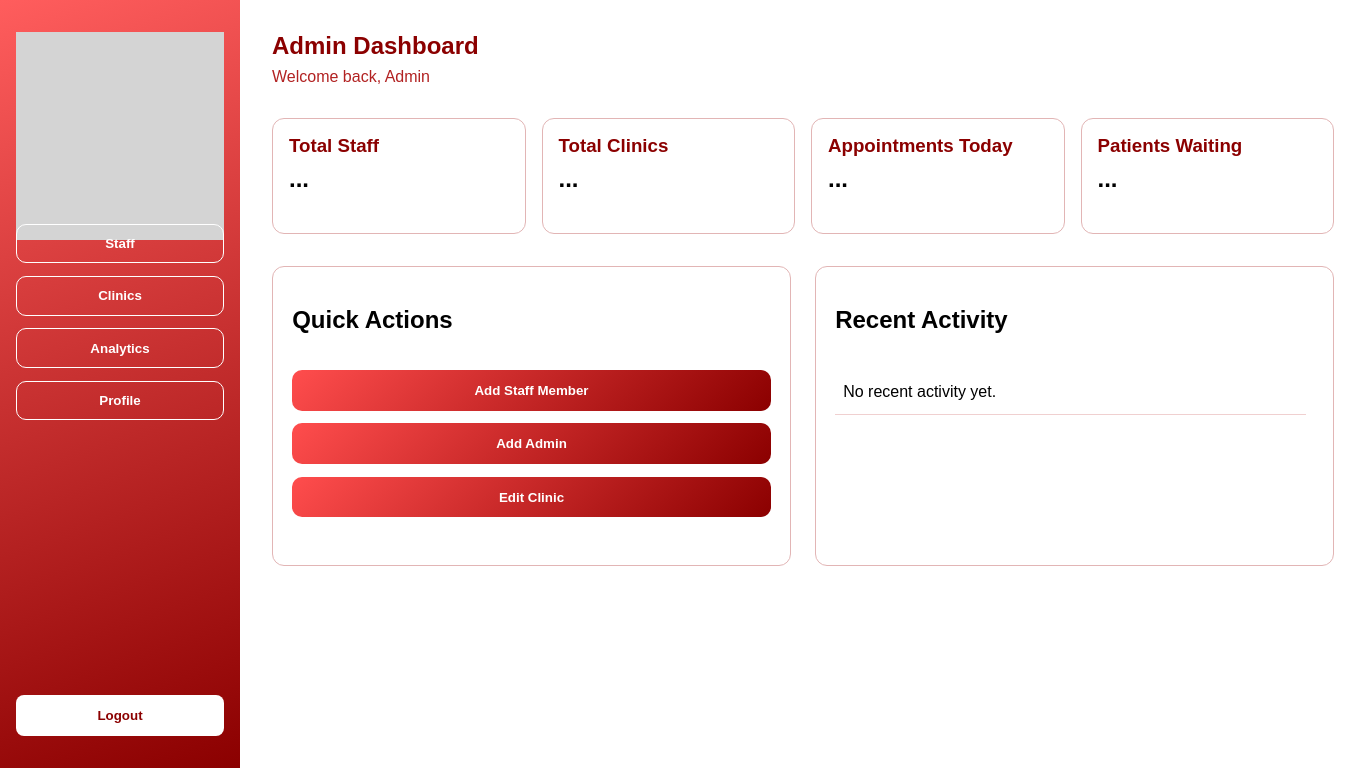
Test: AdminDashboard › shows validation when passwords do not match
Click the button "Profile" at [120, 400], box [16,380,224,420]
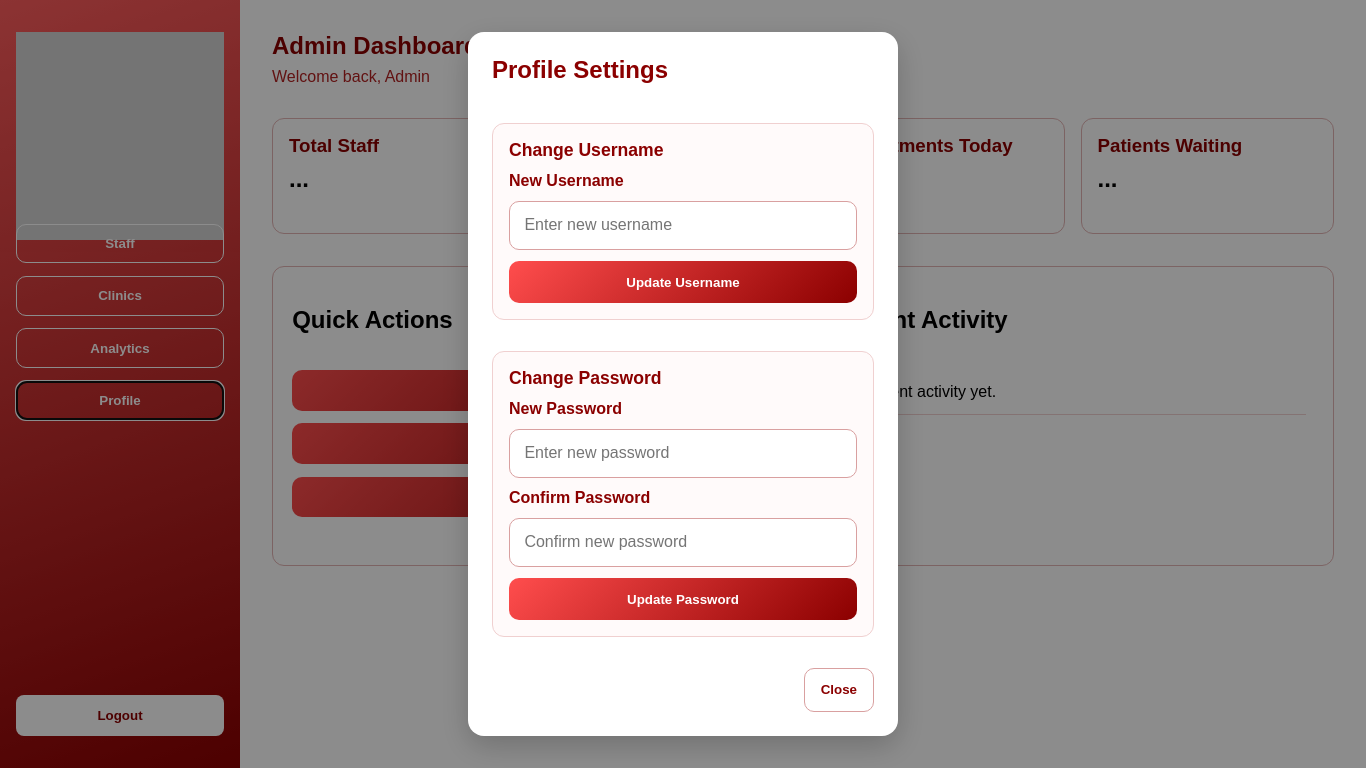
Type "password123" into the password field with placeholder "Enter new password" at [683, 453], box [509,429,857,478]
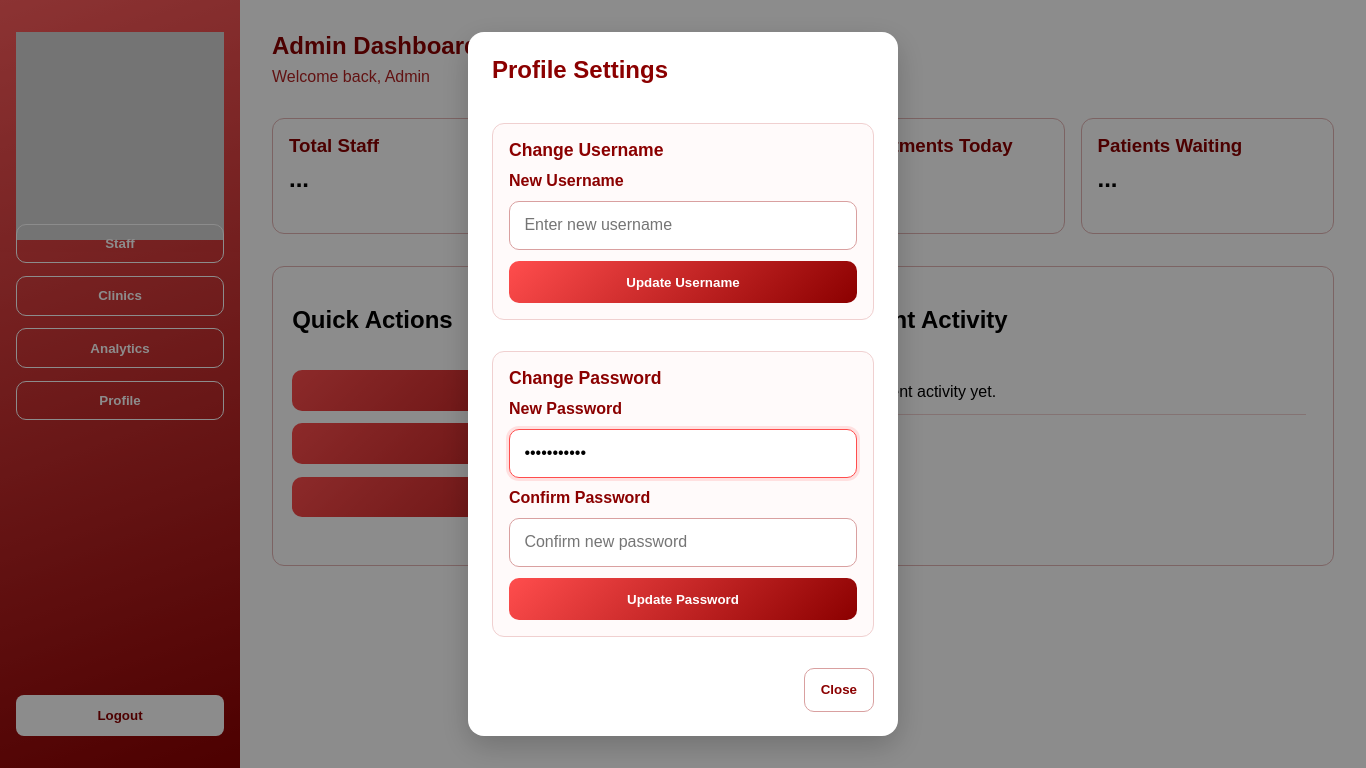
Type "wrongpassword" into the password field with placeholder "Confirm new password" at [683, 542], box [509,518,857,567]
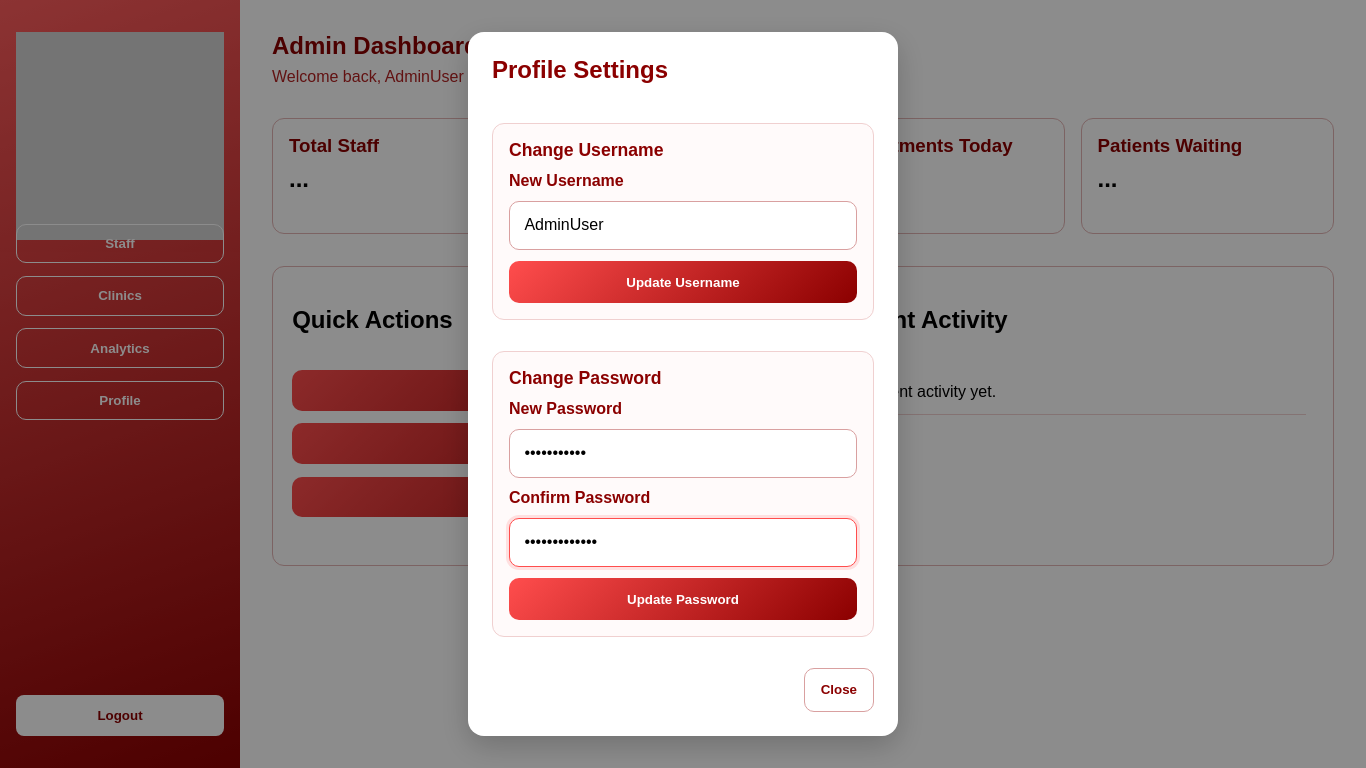
Click the button "Update Password" at [683, 599], box [509,578,857,620]
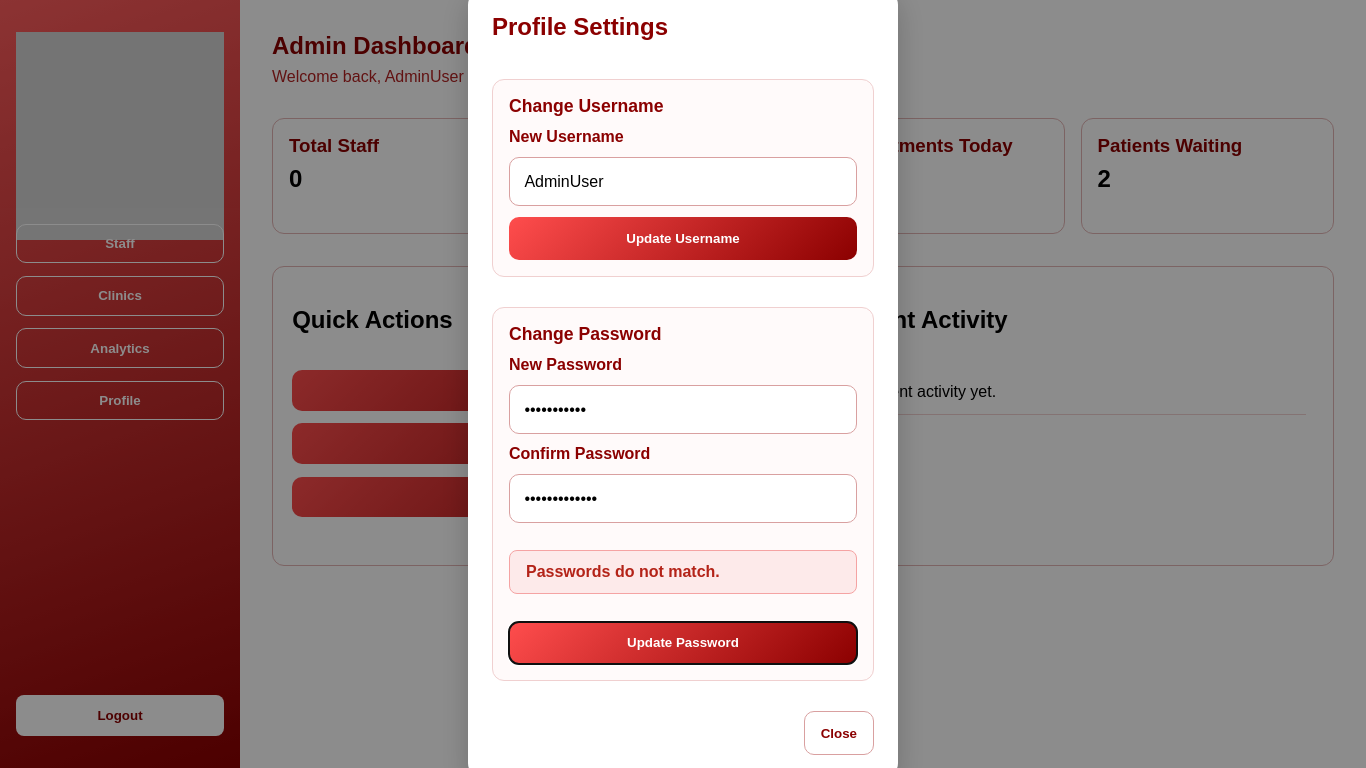
Now the text "Passwords do not match." is shown, box [509,550,857,594]
